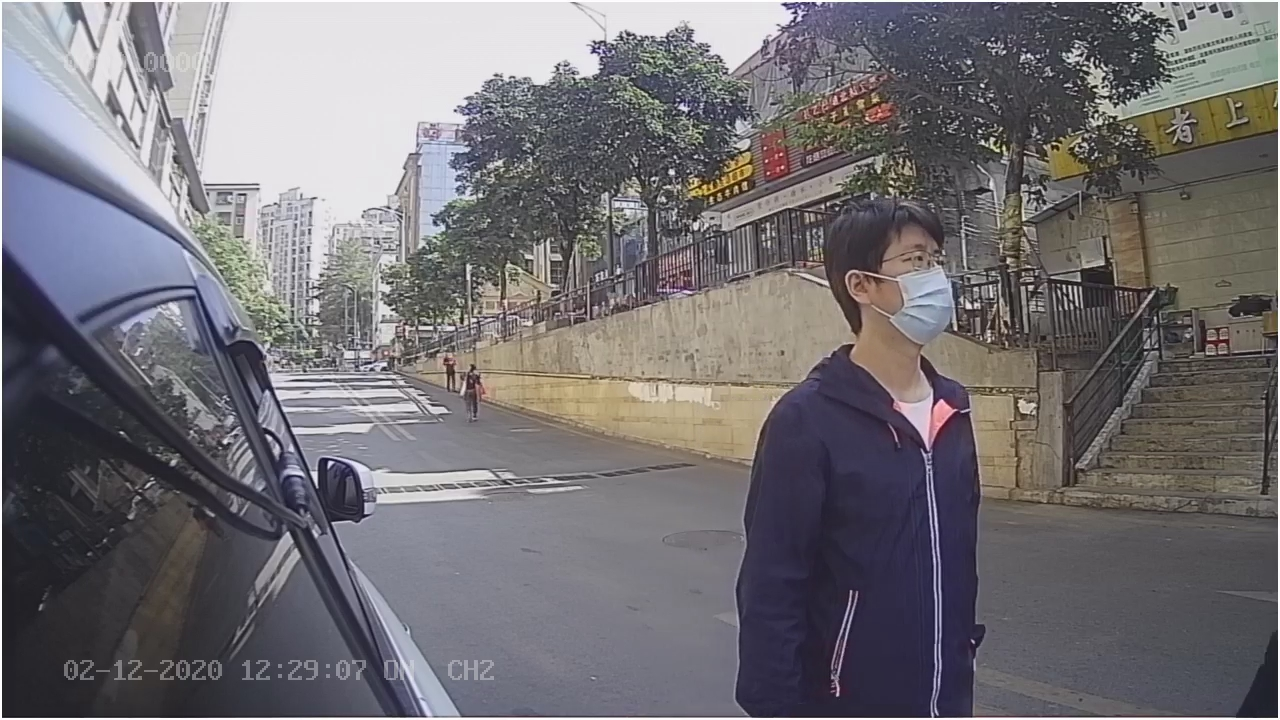person: (738, 186, 993, 569)
